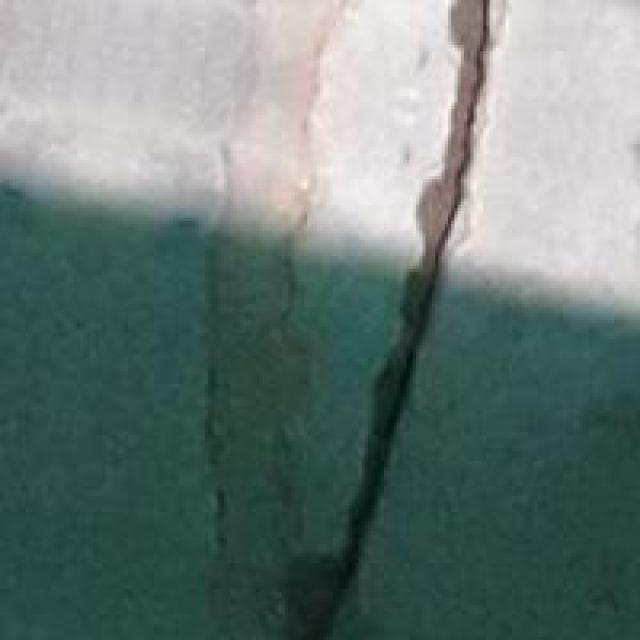Crack: (275, 0, 512, 637)
